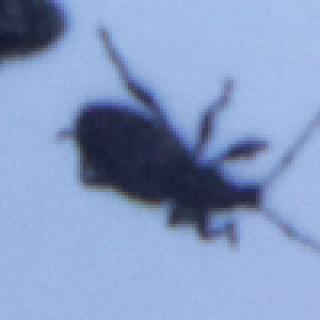bvw: (58, 26, 318, 255)
